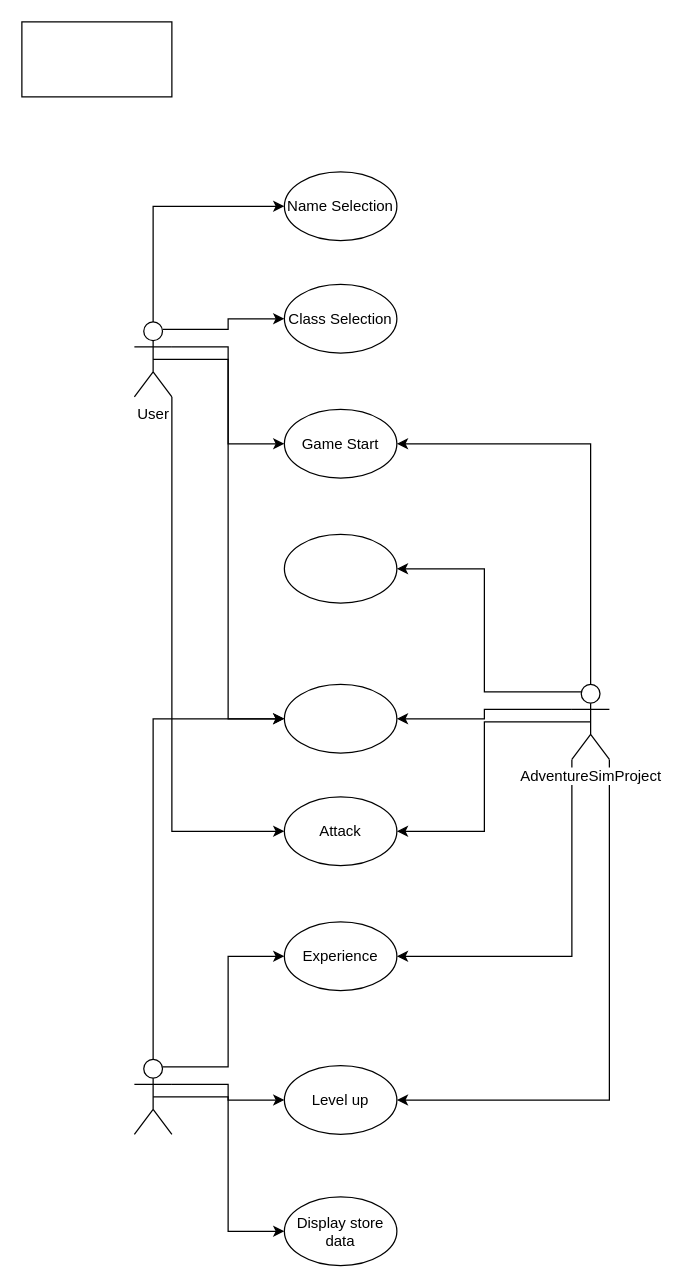
Some shapes in this 683 by 1288 pixel diagram are drawn without their labels. The box of each missing label's shape, as (x1, y1, x2, y2) in pixels:
<<Subsystem>> AdventureSimProject: (21, 21, 172, 97)
Admin: (133, 1058, 172, 1134)
Battle: (283, 533, 397, 603)
Display Status: (283, 683, 397, 753)
